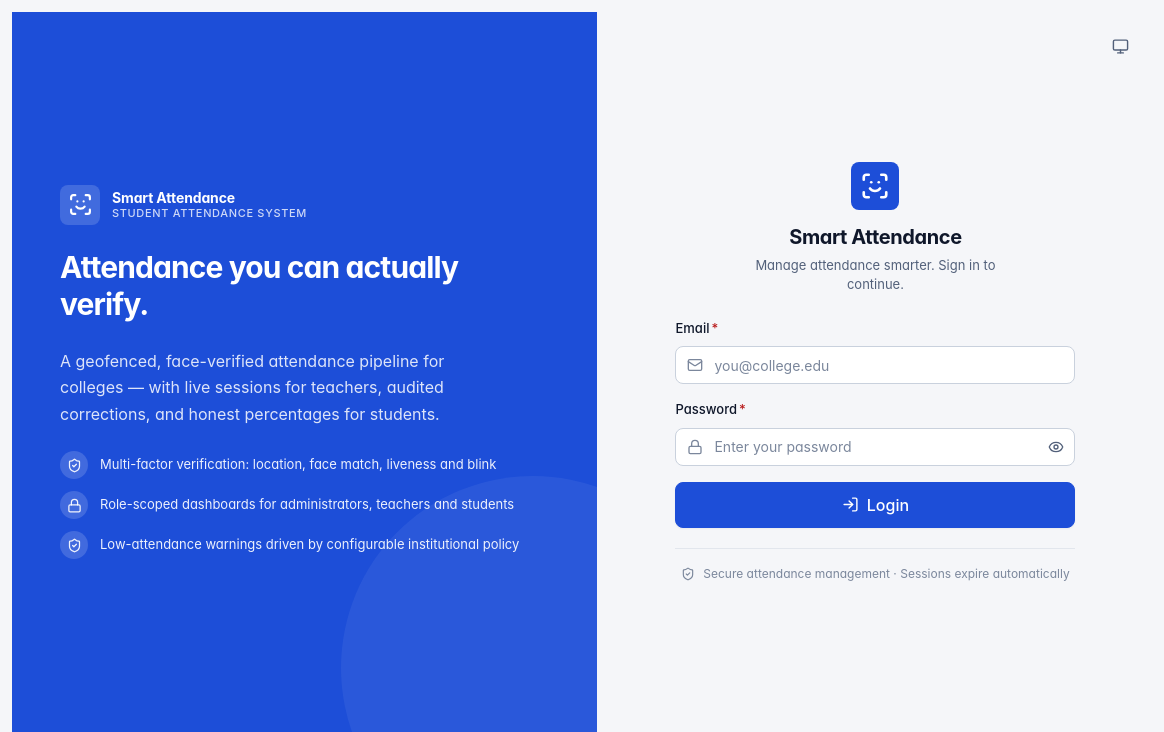
Scenario: LoginPage › signs in a student and routes to the student dashboard
The width and height of the screenshot is (1164, 732).
Type "aarav@ssams.dev" into the field labelled "Email*" at (876, 365), box [676, 346, 1076, 384]
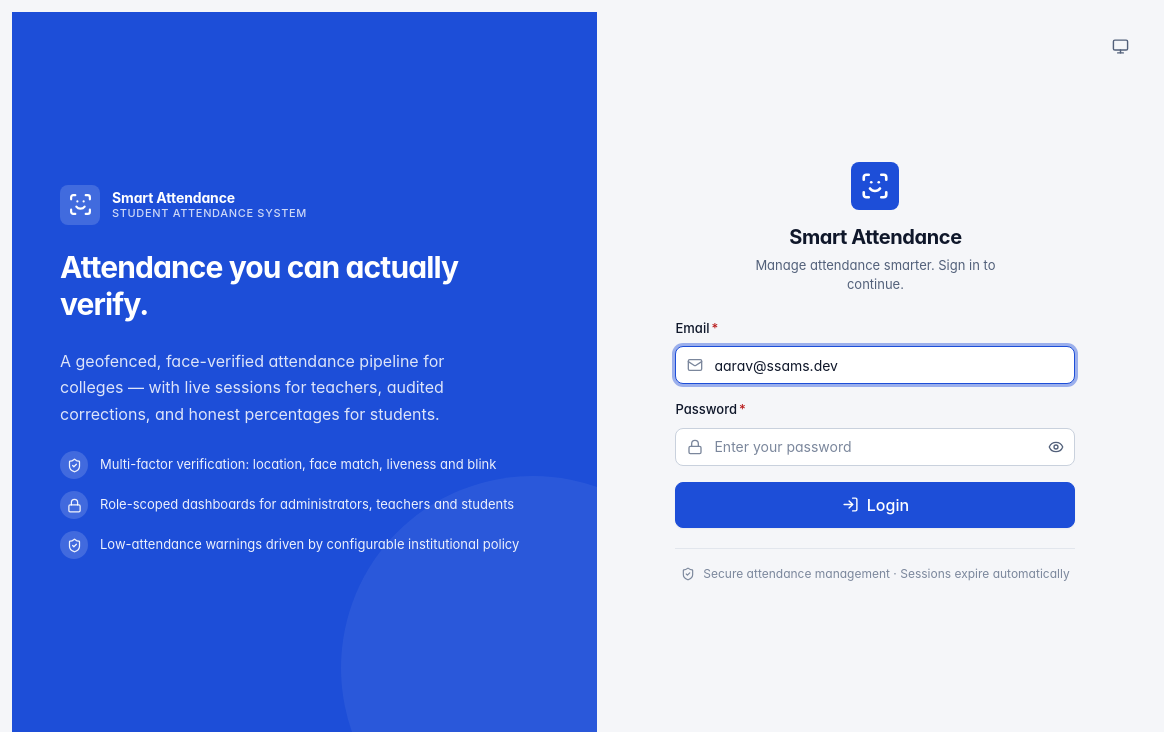
Type "DevPass#2026" into the password field labelled "Password*" at (876, 446), box [676, 428, 1076, 466]
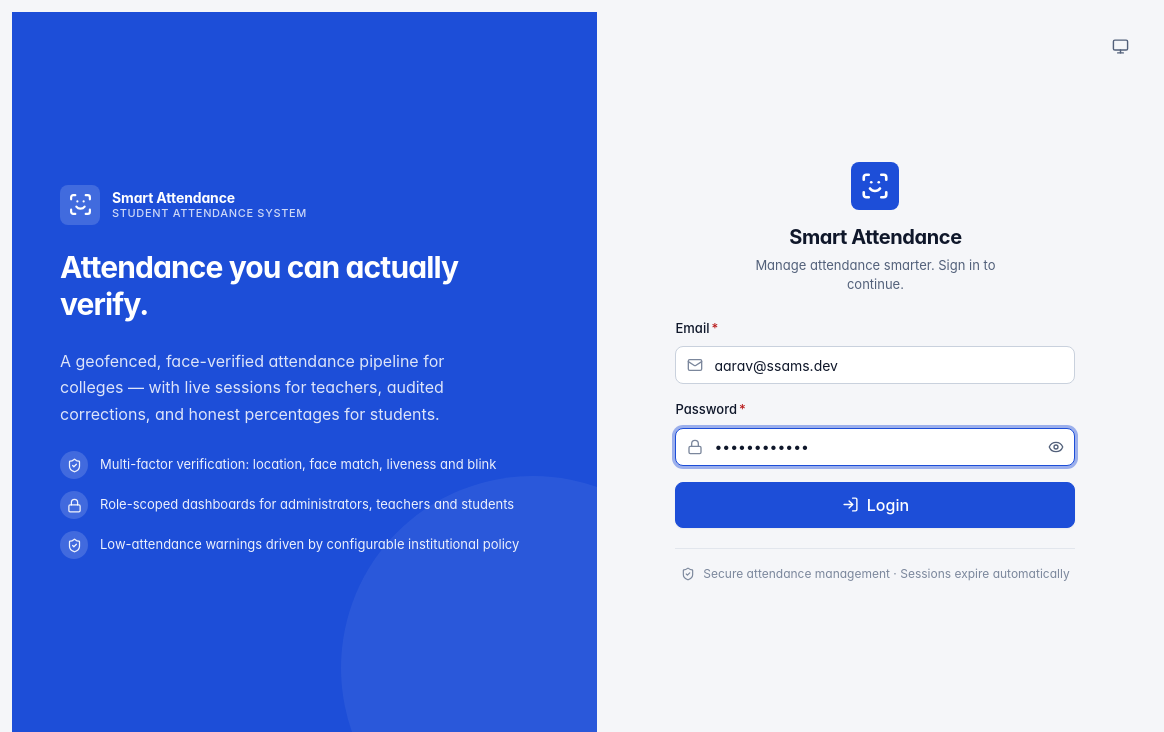
Click the button "Login" at (876, 504), box [676, 482, 1076, 528]
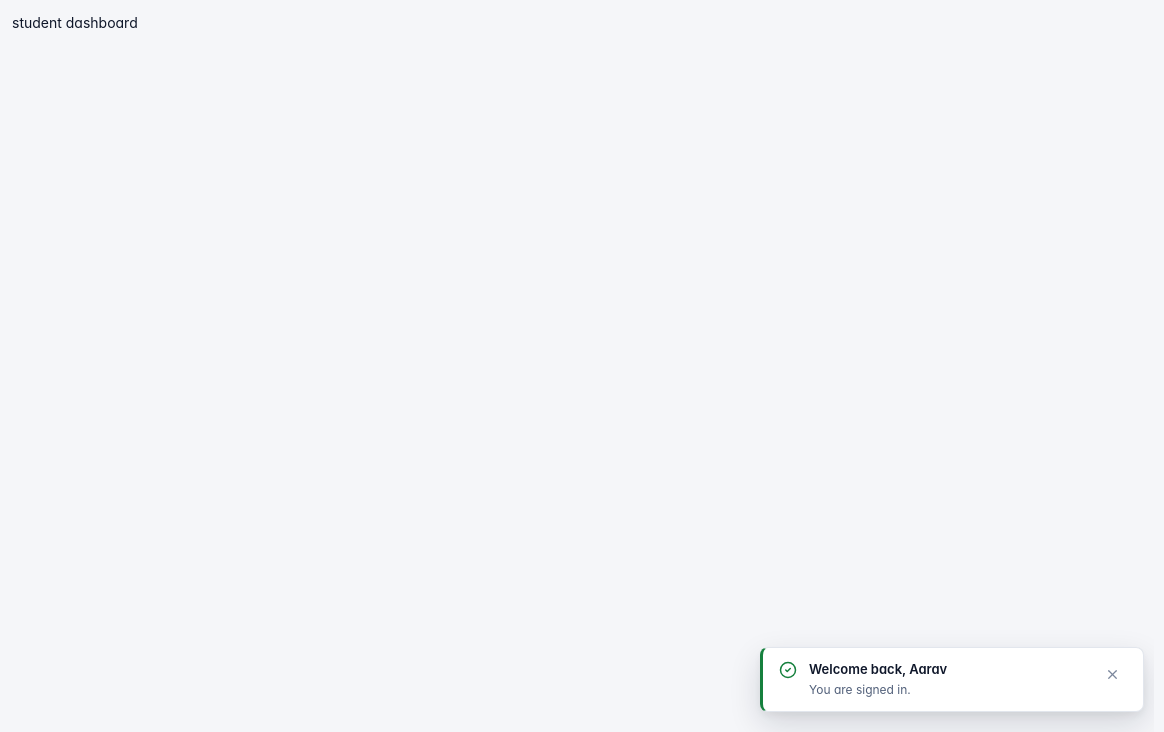
Now the text "student dashboard" is shown, box [12, 14, 138, 31]
